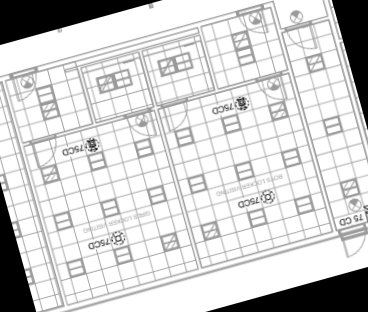door: (254, 73, 290, 107), (237, 5, 271, 41), (30, 135, 64, 170), (160, 99, 194, 134), (10, 70, 43, 105), (338, 230, 368, 262)
window: (284, 19, 319, 56)
